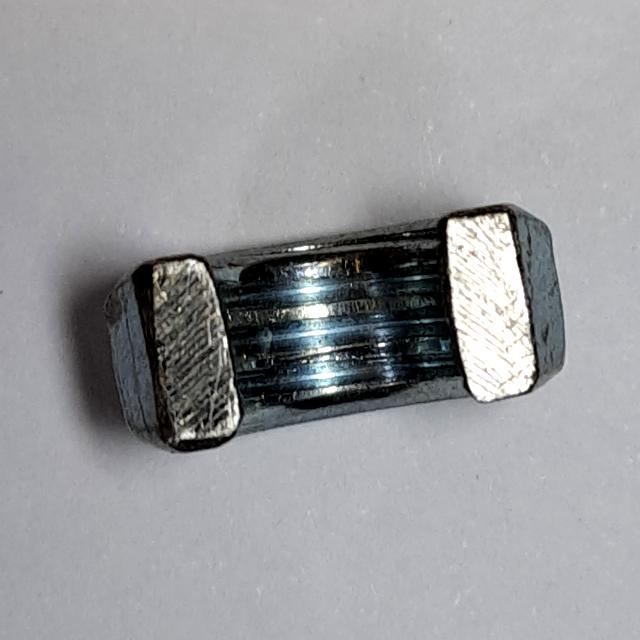Side-Fracture: (94, 198, 578, 466)
